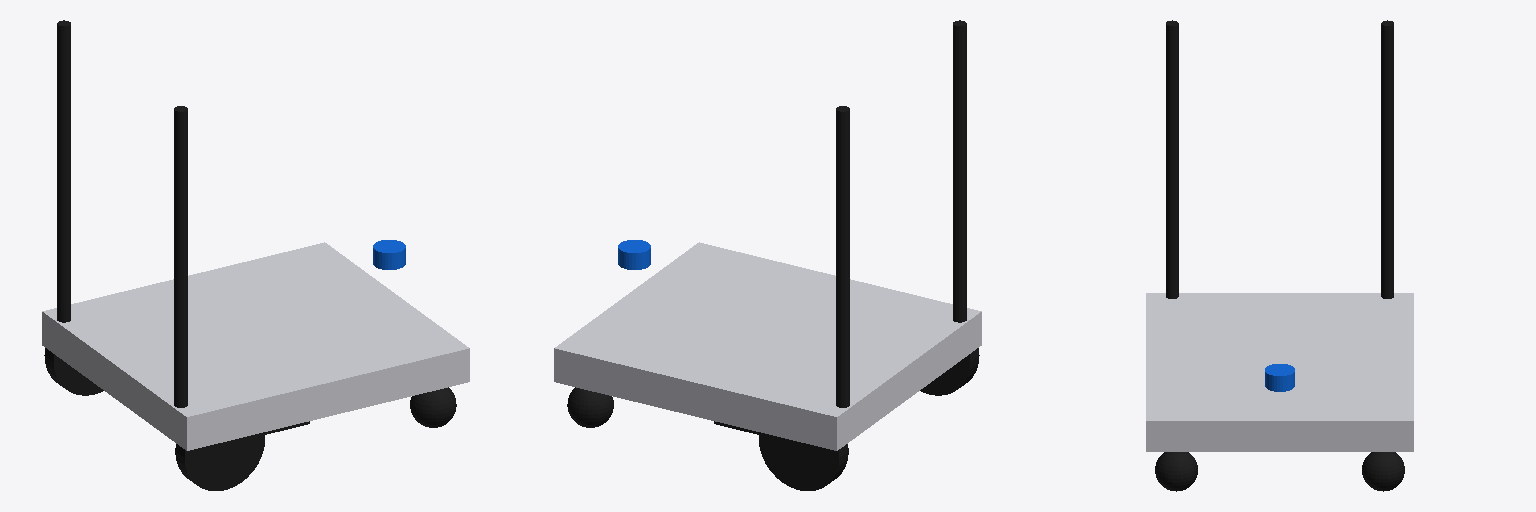
robot.urdf — walker:
<?xml version="1.0"?>
<!-- GENERATED by tools/generate_models.py from config/robot_walker.yaml. Do not edit; run `make generate`. -->
<robot name="walker">
  <material name="body"><color rgba="0.85 0.85 0.88 1"/></material>
  <material name="dark"><color rgba="0.15 0.15 0.15 1"/></material>
  <material name="accent"><color rgba="0.1 0.45 0.9 1"/></material>
  <link name="base_footprint"/>
  <joint name="base_joint" type="fixed"><parent link="base_footprint"/><child link="base_link"/><origin xyz="0 0 0.1" rpy="0 0 0"/></joint>
  <link name="base_link">
    <visual><origin xyz="0.25 0 0.06" rpy="0 0 0"/><geometry><box size="0.7 0.62 0.08"/></geometry><material name="body"/></visual>
    <collision><origin xyz="0.25 0 0.06" rpy="0 0 0"/><geometry><box size="0.7 0.62 0.08"/></geometry></collision>
    <visual><origin xyz="-0.08 0.25 0.43" rpy="0 0 0"/><geometry><cylinder radius="0.015" length="0.74"/></geometry><material name="dark"/></visual>
    <visual><origin xyz="-0.08 -0.25 0.43" rpy="0 0 0"/><geometry><cylinder radius="0.015" length="0.74"/></geometry><material name="dark"/></visual>
    <visual><origin xyz="0.2 0 -0.04" rpy="0 0 0"/><geometry><box size="0.25 0.2 0.12"/></geometry><material name="dark"/></visual>
    <inertial><origin xyz="0.25 0 0.06" rpy="0 0 0"/><mass value="18"/><inertia ixx="5.862000e-01" ixy="0" ixz="0" iyy="7.446000e-01" iyz="0" izz="1.311600e+00"/></inertial>
  </link>
  <link name="left_wheel_link">
    <visual><origin xyz="0 0 0" rpy="-1.570796 0 0"/><geometry><cylinder radius="0.1" length="0.04"/></geometry><material name="dark"/></visual>
    <collision><origin xyz="0 0 0" rpy="-1.570796 0 0"/><geometry><cylinder radius="0.1" length="0.04"/></geometry></collision>
    <inertial><origin xyz="0 0 0" rpy="0 0 0"/><mass value="1.2"/><inertia ixx="3.160000e-03" ixy="0" ixz="0" iyy="6.000000e-03" iyz="0" izz="3.160000e-03"/></inertial>
  </link>
  <joint name="left_wheel_joint" type="continuous"><parent link="base_link"/><child link="left_wheel_link"/><origin xyz="0 0.28 0" rpy="0 0 0"/><axis xyz="0 1 0"/></joint>
  <link name="right_wheel_link">
    <visual><origin xyz="0 0 0" rpy="-1.570796 0 0"/><geometry><cylinder radius="0.1" length="0.04"/></geometry><material name="dark"/></visual>
    <collision><origin xyz="0 0 0" rpy="-1.570796 0 0"/><geometry><cylinder radius="0.1" length="0.04"/></geometry></collision>
    <inertial><origin xyz="0 0 0" rpy="0 0 0"/><mass value="1.2"/><inertia ixx="3.160000e-03" ixy="0" ixz="0" iyy="6.000000e-03" iyz="0" izz="3.160000e-03"/></inertial>
  </link>
  <joint name="right_wheel_joint" type="continuous"><parent link="base_link"/><child link="right_wheel_link"/><origin xyz="0 -0.28 0" rpy="0 0 0"/><axis xyz="0 1 0"/></joint>
  <link name="front_left_caster_link">
    <visual><geometry><sphere radius="0.05"/></geometry><material name="dark"/></visual>
    <collision><geometry><sphere radius="0.05"/></geometry></collision>
    <inertial><origin xyz="0 0 0" rpy="0 0 0"/><mass value="0.05"/><inertia ixx="5.000000e-05" ixy="0" ixz="0" iyy="5.000000e-05" iyz="0" izz="5.000000e-05"/></inertial>
  </link>
  <joint name="front_left_caster_joint" type="fixed"><parent link="base_link"/><child link="front_left_caster_link"/><origin xyz="0.55 0.24 -0.05" rpy="0 0 0"/></joint>
  <link name="front_right_caster_link">
    <visual><geometry><sphere radius="0.05"/></geometry><material name="dark"/></visual>
    <collision><geometry><sphere radius="0.05"/></geometry></collision>
    <inertial><origin xyz="0 0 0" rpy="0 0 0"/><mass value="0.05"/><inertia ixx="5.000000e-05" ixy="0" ixz="0" iyy="5.000000e-05" iyz="0" izz="5.000000e-05"/></inertial>
  </link>
  <joint name="front_right_caster_joint" type="fixed"><parent link="base_link"/><child link="front_right_caster_link"/><origin xyz="0.55 -0.24 -0.05" rpy="0 0 0"/></joint>
  <link name="laser_frame">
    <visual><geometry><cylinder radius="0.035" length="0.04"/></geometry><material name="accent"/></visual>
    <collision><geometry><cylinder radius="0.035" length="0.04"/></geometry></collision>
    <inertial><origin xyz="0 0 0" rpy="0 0 0"/><mass value="0.17"/><inertia ixx="7.472917e-05" ixy="0" ixz="0" iyy="7.472917e-05" iyz="0" izz="1.041250e-04"/></inertial>
  </link>
  <joint name="laser_joint" type="fixed"><parent link="base_link"/><child link="laser_frame"/><origin xyz="0.58 0 0.2" rpy="0 0 0"/></joint>
  <link name="imu_link"/>
  <joint name="imu_joint" type="fixed"><parent link="base_link"/><child link="imu_link"/><origin xyz="0.2 0 0.1" rpy="0 0 0"/></joint>
  <link name="camera_link"/>
  <joint name="camera_joint" type="fixed"><parent link="base_link"/><child link="camera_link"/><origin xyz="0.6 0 0.35" rpy="0 0 0"/></joint>
  <link name="camera_optical_frame"/>
  <joint name="camera_optical_joint" type="fixed"><parent link="camera_link"/><child link="camera_optical_frame"/><origin xyz="0 0 0" rpy="-1.570796 0 -1.570796"/></joint>
  <link name="handle_left_ft"/>
  <joint name="handle_left_ft_joint" type="fixed"><parent link="base_link"/><child link="handle_left_ft"/><origin xyz="-0.08 0.25 0.8" rpy="0 0 0"/></joint>
  <link name="grip_left"/>
  <joint name="grip_left_joint" type="fixed"><parent link="handle_left_ft"/><child link="grip_left"/><origin xyz="-0.03 0 0.02" rpy="0 0 0"/></joint>
  <link name="handle_right_ft"/>
  <joint name="handle_right_ft_joint" type="fixed"><parent link="base_link"/><child link="handle_right_ft"/><origin xyz="-0.08 -0.25 0.8" rpy="0 0 0"/></joint>
  <link name="grip_right"/>
  <joint name="grip_right_joint" type="fixed"><parent link="handle_right_ft"/><child link="grip_right"/><origin xyz="-0.03 0 0.02" rpy="0 0 0"/></joint>
  <ros2_control name="walker_system" type="system">
    <hardware>
      <plugin>diffdrive_arduino/DiffDriveArduinoHardware</plugin>
      <param name="left_wheel_name">left_wheel_joint</param>
      <param name="right_wheel_name">right_wheel_joint</param>
      <param name="loop_rate">50</param>
      <param name="device">/dev/eyesteer_mcu</param>
      <param name="baud_rate">57600</param>
      <param name="timeout_ms">1000</param>
      <param name="enc_counts_per_rev">1320</param>
      <param name="pid_p">30</param>
      <param name="pid_d">10</param>
      <param name="pid_i">0</param>
      <param name="pid_o">50</param>
    </hardware>
    <joint name="left_wheel_joint">
      <command_interface name="velocity"><param name="min">-6</param><param name="max">6</param></command_interface>
      <state_interface name="position"/>
      <state_interface name="velocity"/>
    </joint>
    <joint name="right_wheel_joint">
      <command_interface name="velocity"><param name="min">-6</param><param name="max">6</param></command_interface>
      <state_interface name="position"/>
      <state_interface name="velocity"/>
    </joint>
  </ros2_control>
</robot>

--- What the picture shows (computed from the rendered views, not written in the file) ---
Views: 3 orthographic renders of the robot side by side, from view 1: azimuth 30°, elevation 25°; view 2: azimuth 150°, elevation 25°; view 3: azimuth 270°, elevation 25°.
Robot: walker — 14 links, 13 joints (2 continuous, 11 fixed); root link base_footprint; default pose: every joint at zero.
Links seen in each view (by area): view 1: base_link, right_wheel_link, front_right_caster_link, left_wheel_link, laser_frame; view 2: base_link, left_wheel_link, front_left_caster_link, right_wheel_link, laser_frame; view 3: base_link, front_left_caster_link, front_right_caster_link, laser_frame.
Boxes of the visible links, <box> form: base_link: <box>42,20,469,450</box>; right_wheel_link: <box>175,432,264,490</box>; front_right_caster_link: <box>410,387,456,427</box>; left_wheel_link: <box>44,348,103,395</box>; laser_frame: <box>373,240,405,269</box>; base_link: <box>554,20,981,450</box>; left_wheel_link: <box>759,432,848,490</box>; front_left_caster_link: <box>567,387,613,427</box>; right_wheel_link: <box>920,348,979,395</box>; laser_frame: <box>618,240,650,269</box>; base_link: <box>1146,20,1413,451</box>; front_left_caster_link: <box>1362,452,1404,491</box>; front_right_caster_link: <box>1155,452,1197,491</box>; laser_frame: <box>1265,364,1294,391</box>.
Size in the robot's own frame: 0.715 by 0.62 by 0.9 metres.
Geometry: primitives only (box / cylinder / sphere), no mesh files.
